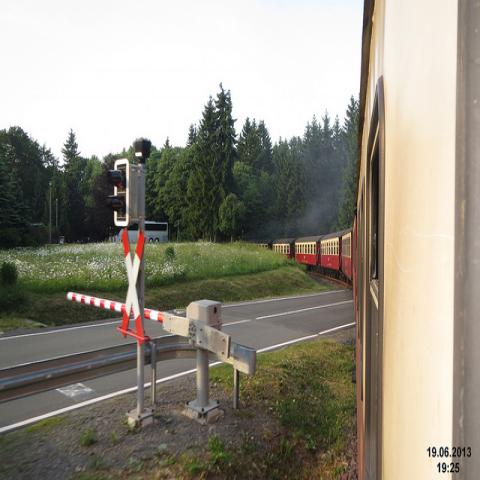bus: (107, 221, 169, 246)
